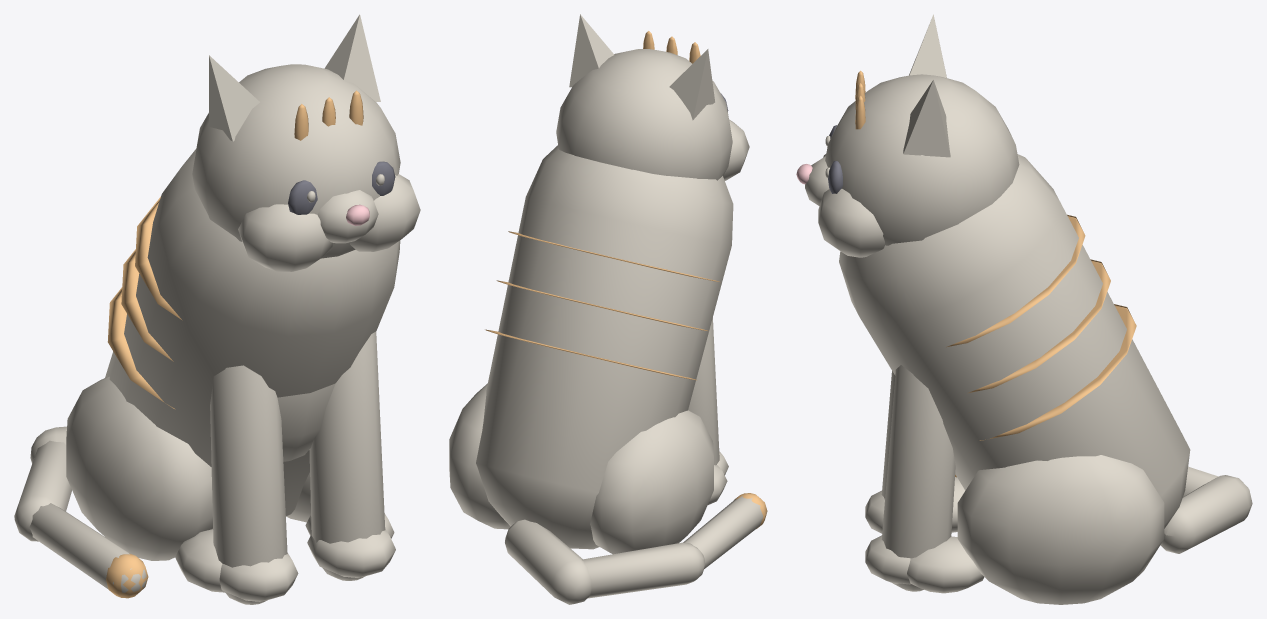
Rendered from companion-animals-and-pet-home-cat-sitting-calico-33d18f87__20539.glb.
3 views of the same model, side by side, from view 1: azimuth 30°, elevation 25°; view 2: azimuth 150°, elevation 25°; view 3: azimuth 270°, elevation 25° (orthographic). The views are drawn at different scales.
Parts seen in each view (by area): view 1: cat-sitting-calico; view 2: cat-sitting-calico; view 3: cat-sitting-calico.
Boxes of the visible parts, <box> form: cat-sitting-calico: <box>14,14,420,604</box>; cat-sitting-calico: <box>449,14,767,604</box>; cat-sitting-calico: <box>796,14,1252,604</box>.
Size of the model in its own units: 0.2997 by 0.5095 by 0.4063.
